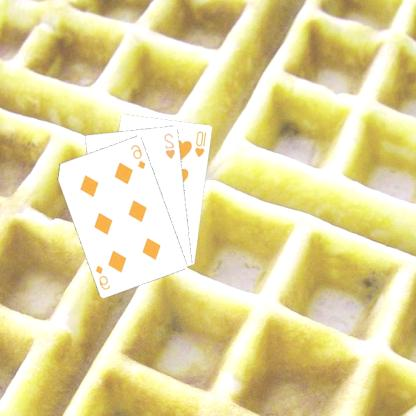10H: (194, 128, 210, 159)
2H: (163, 130, 179, 160)
6D: (94, 262, 114, 291), (130, 141, 149, 171)
